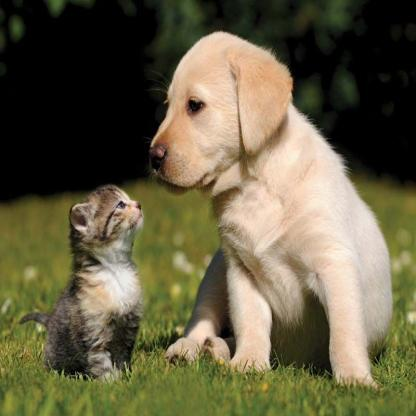cat: (41, 174, 154, 275)
dog: (142, 18, 325, 247)
